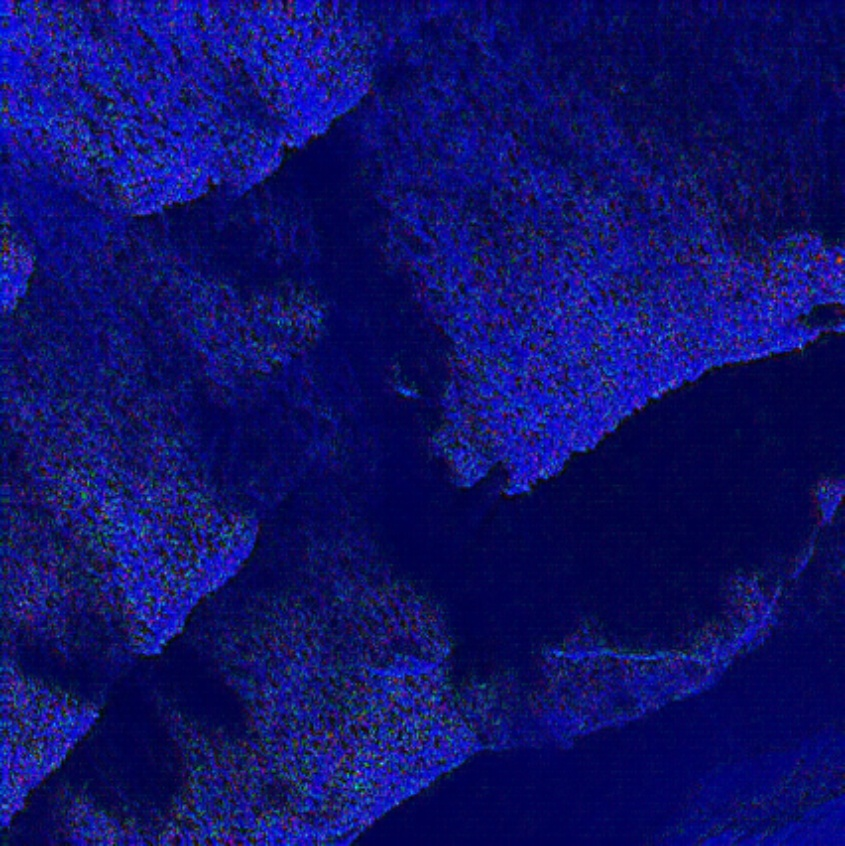rip_current: (230, 135, 575, 648)
